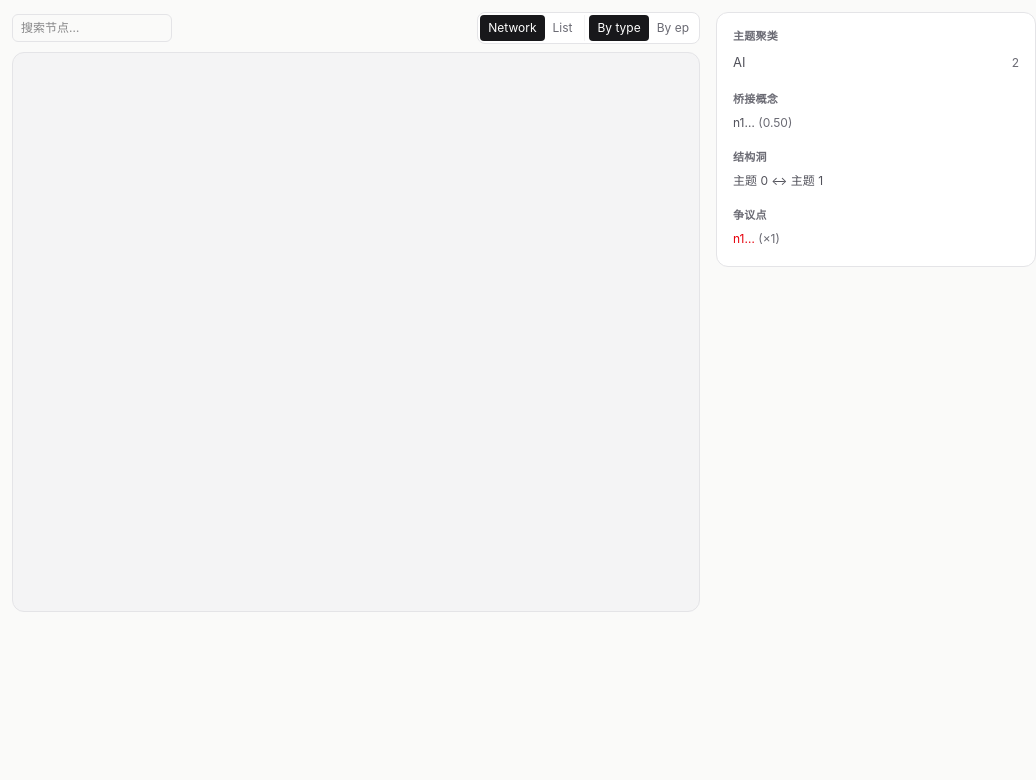
Test: InsightGraph (V2/T-V2-7) › switches to the list view and lists nodes
Click the button "List".
click(562, 28)  # box [544,15,580,41]
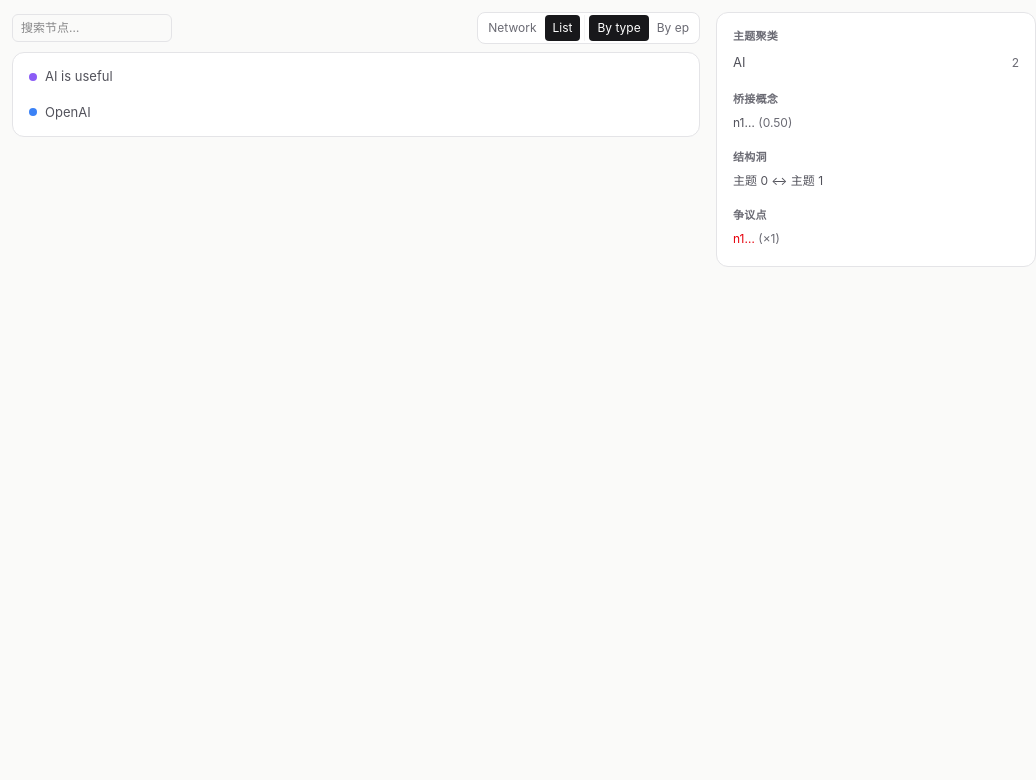
Now the text "AI is useful" is shown, box [45,68,113,84]
Now the text "OpenAI" is shown, box [45,104,91,120]
